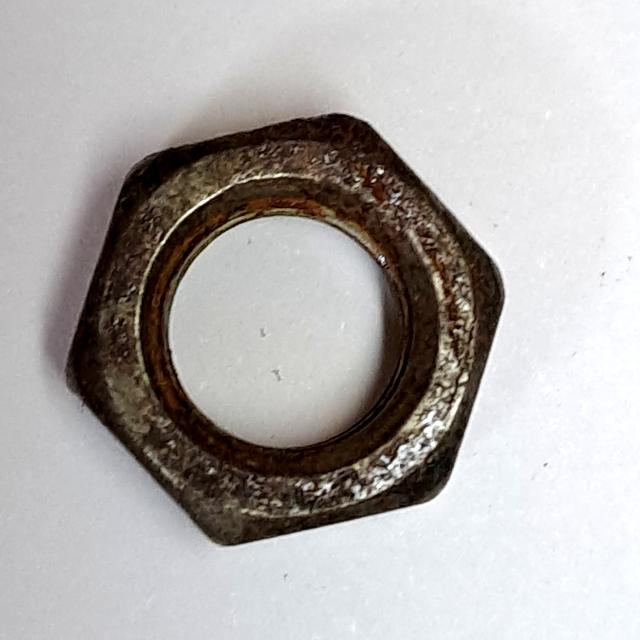Rust: (55, 107, 517, 555)
